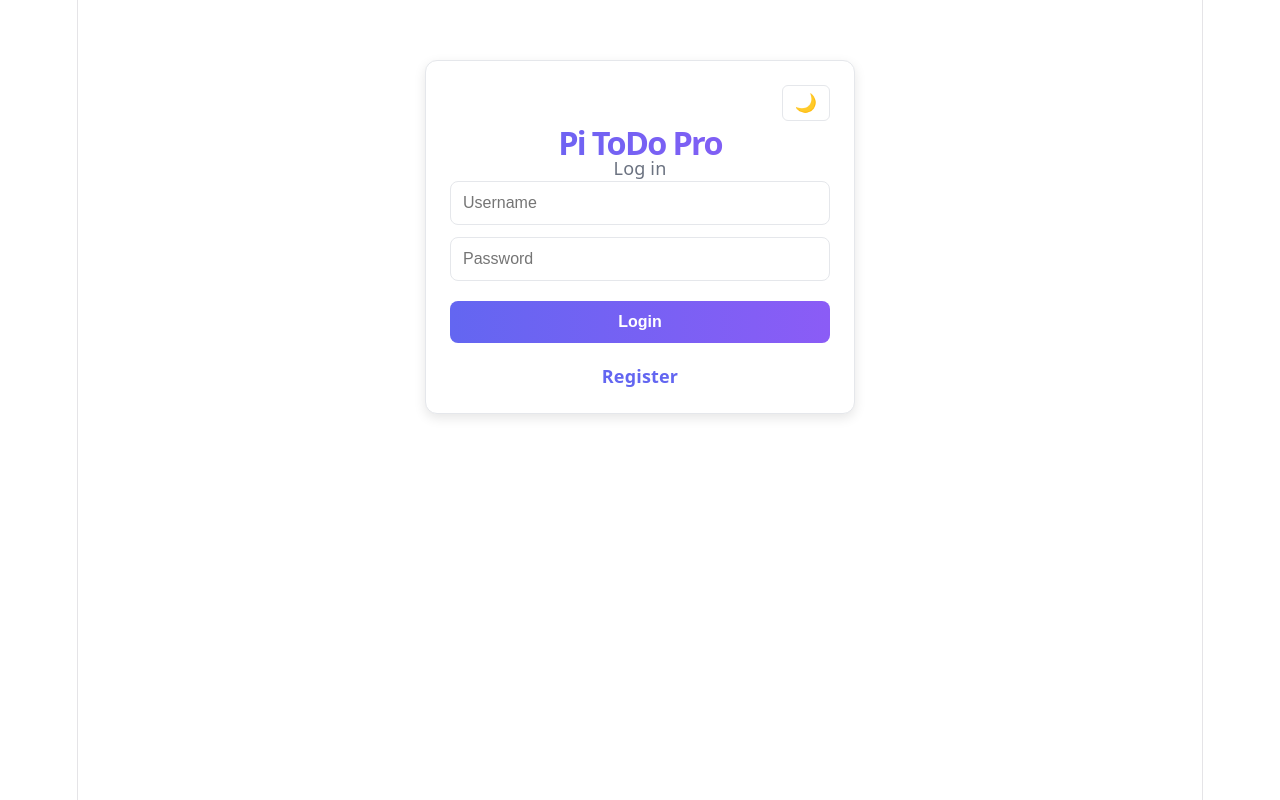
Test: Login Page › switches to register mode
The width and height of the screenshot is (1280, 800).
Click the text "Register".
click(640, 376)  # box [602,364,678,388]
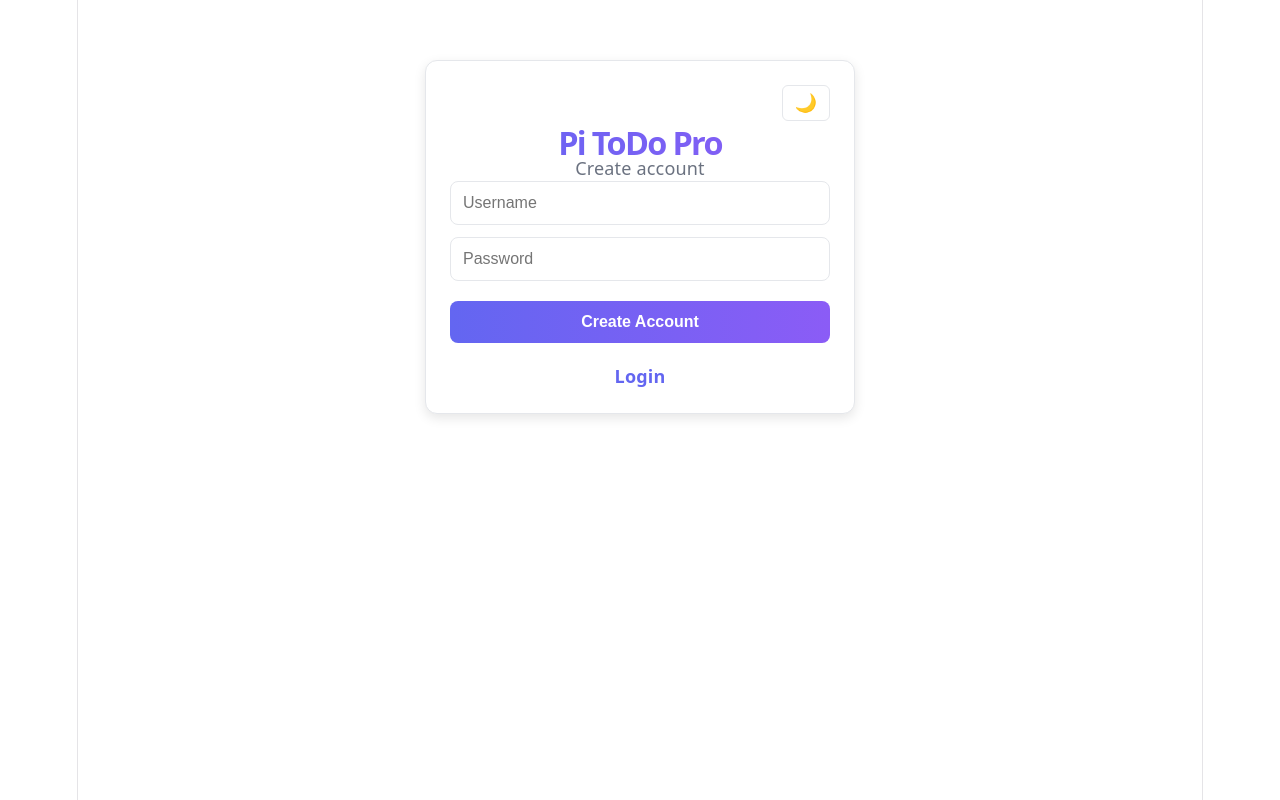
Check: the button "Create Account" is shown, box [450,301,830,343]
